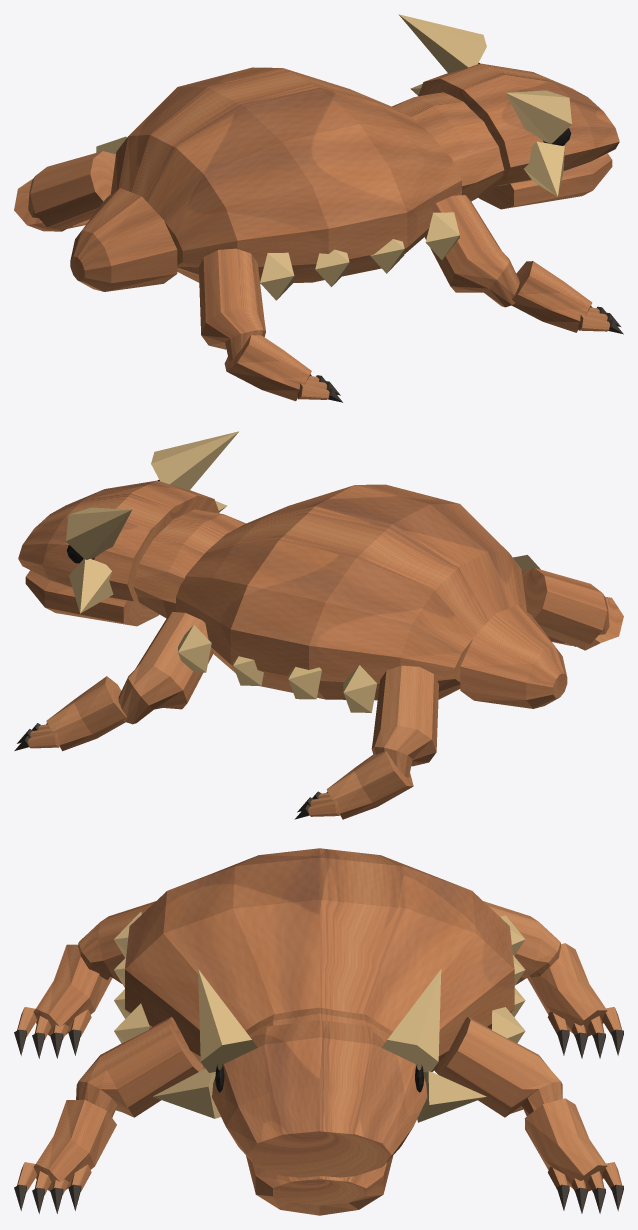
File: cornevio-v01-textured-blockout.glb
3 views of the same model, one above another, from view 1: azimuth 30°, elevation 25°; view 2: azimuth 150°, elevation 25°; view 3: azimuth 270°, elevation 25° (orthographic). The views are drawn at different scales.
Visible parts, largest first — view 1: cornevio_root; view 2: cornevio_root; view 3: cornevio_root.
Part boxes in pixels (left/top/right/bottom): cornevio_root: left=14, top=14, right=623, bottom=402; cornevio_root: left=14, top=431, right=623, bottom=819; cornevio_root: left=14, top=848, right=623, bottom=1215.
Bounding box in the file's own units: 0.559 × 0.2024 × 0.5067.
Materials: 1 (1 with a texture image).
